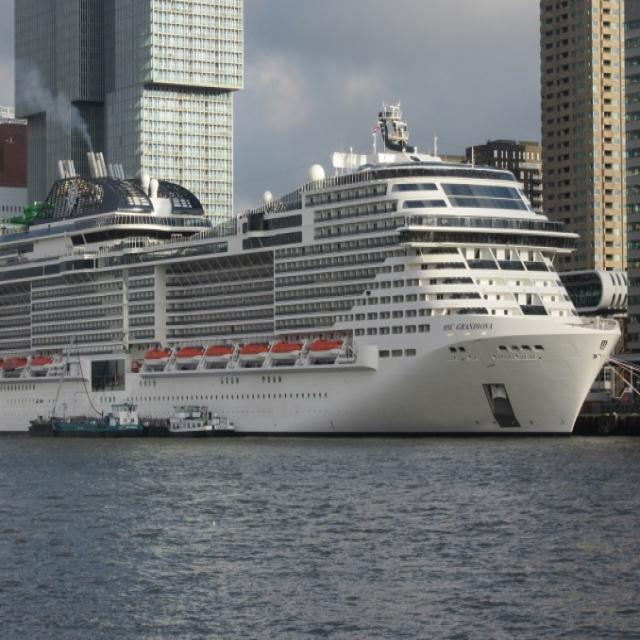cruises: (1, 98, 626, 448)
